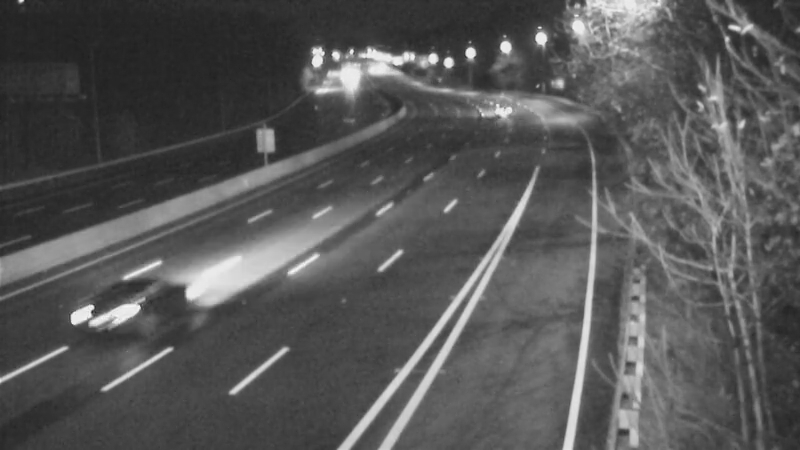vehicle: (56, 256, 166, 366), (475, 86, 525, 136)
